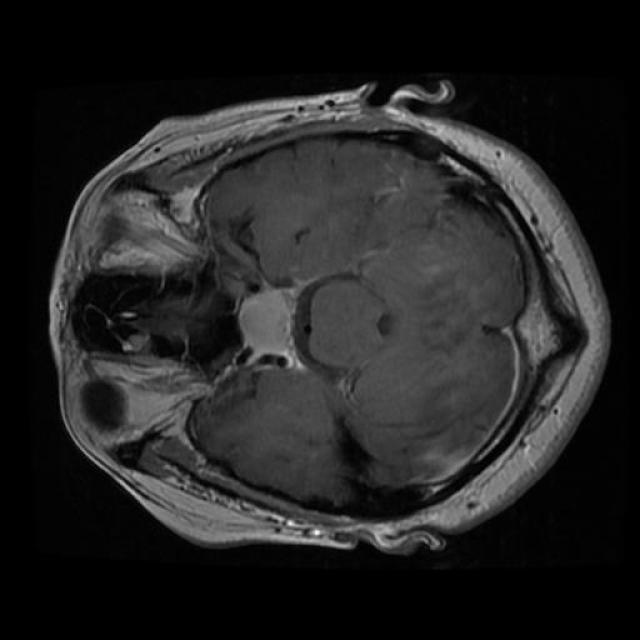Pituitary: (236, 284, 295, 367)
